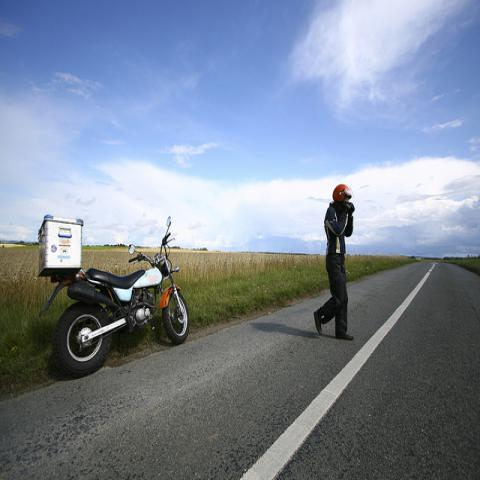motorcycle: (38, 213, 194, 379)
